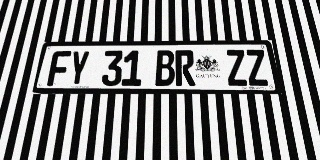1: (121, 50, 142, 86)
3: (101, 50, 123, 86)
B: (155, 50, 175, 86)
F: (47, 51, 71, 86)
R: (175, 50, 195, 86)
Y: (66, 51, 90, 86)
Z: (244, 50, 270, 86), (225, 50, 249, 86)
